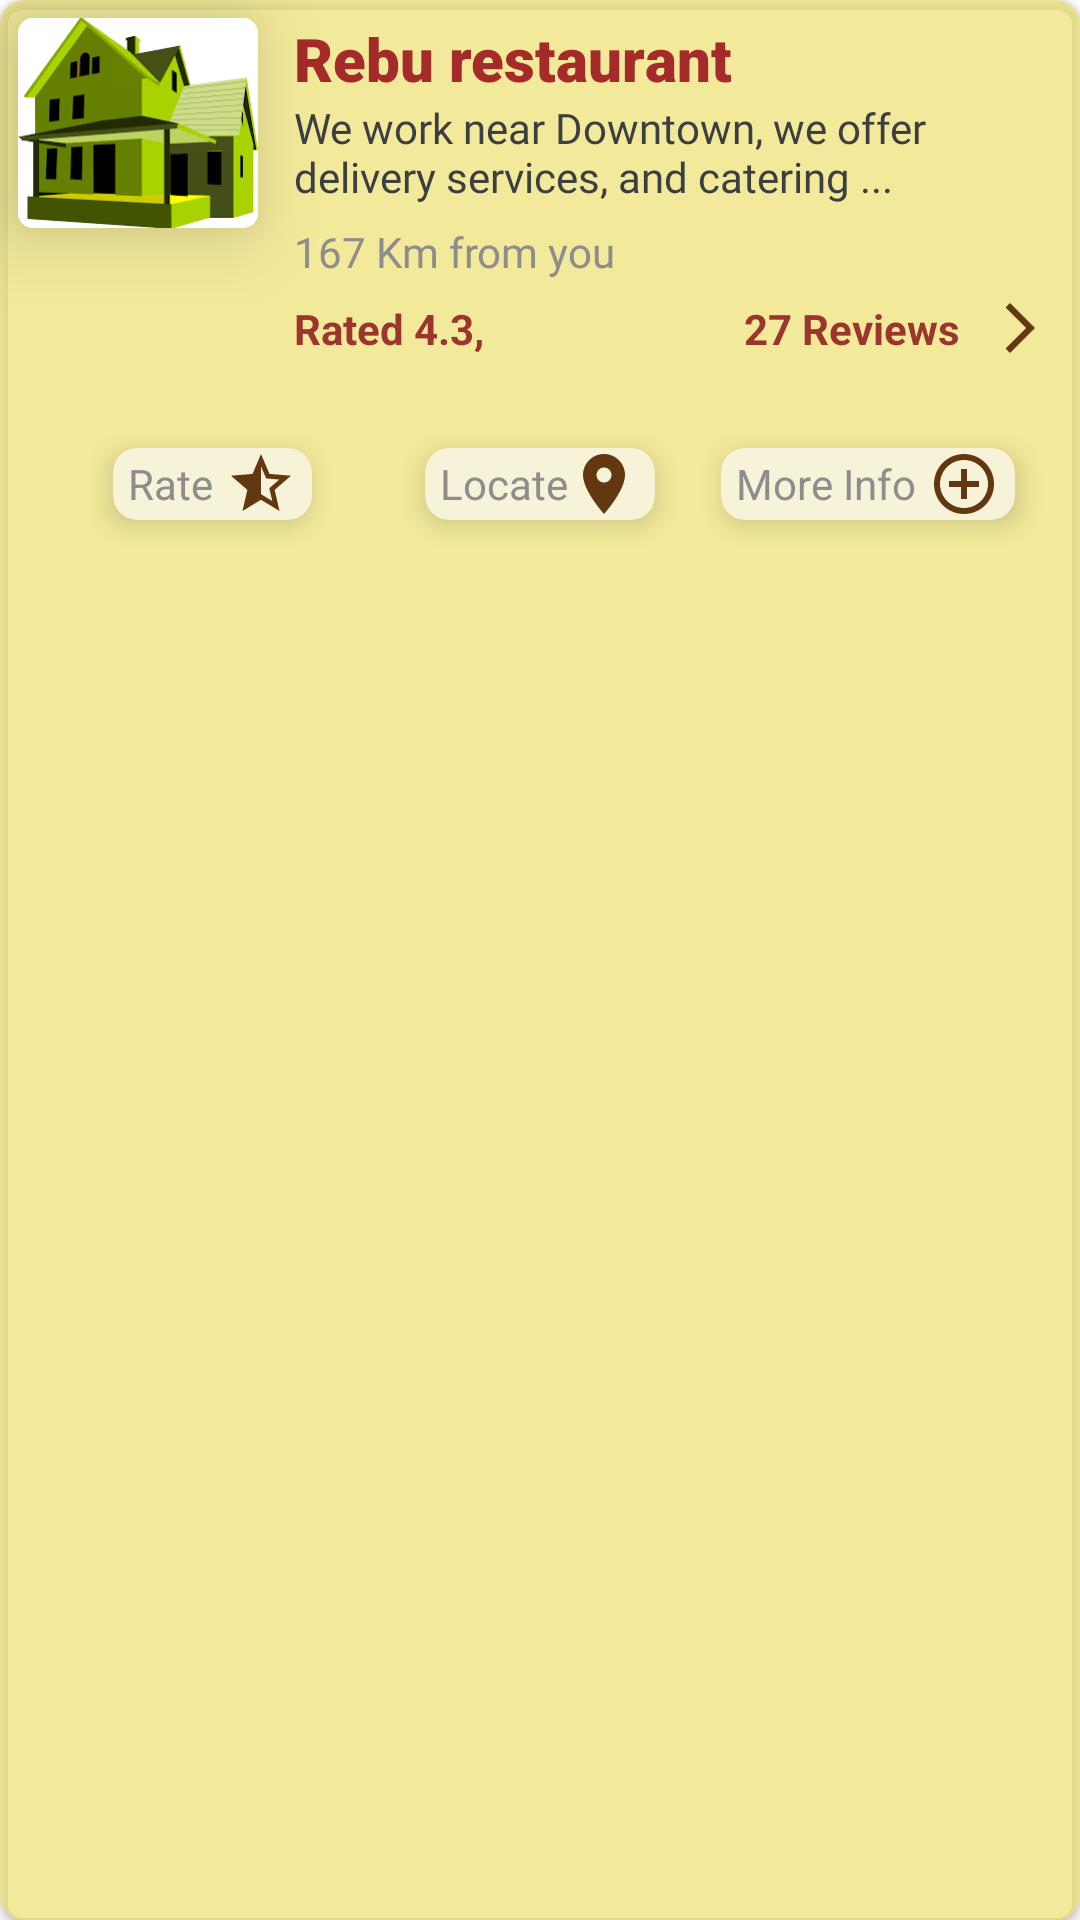

Where icons sit on this 1080 × 1920 app screen, as [x1, y1, x2, y2]:
arrow forward: [1005, 303, 1035, 353]
hotelimage: [18, 18, 258, 228]
location: [583, 454, 625, 514]
plus: [934, 454, 994, 514]
